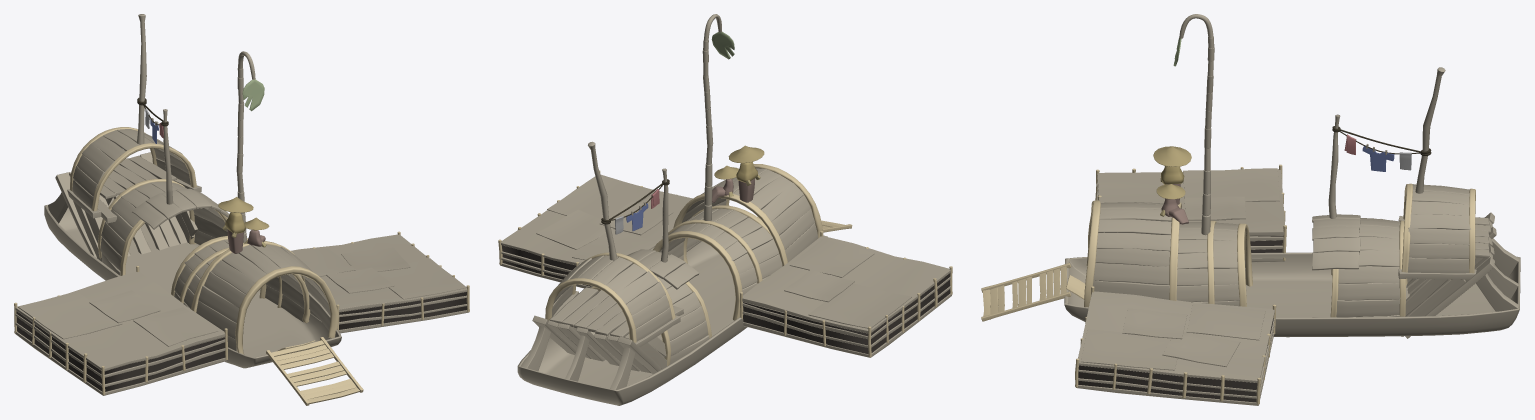
File: boat_scene_updated.fbx
3 views of the same model, side by side, from view 1: azimuth 30°, elevation 25°; view 2: azimuth 150°, elevation 25°; view 3: azimuth 270°, elevation 25° (orthographic). The views are drawn at different scales.
Visible parts, largest first — view 1: polySurface571; view 2: polySurface571; view 3: polySurface571.
Part boxes in pixels (bbox=[...]): polySurface571: bbox=[14, 14, 469, 405]; polySurface571: bbox=[498, 14, 952, 405]; polySurface571: bbox=[981, 14, 1520, 405].
Bounding box in the file's own units: 869 × 610 × 988.
